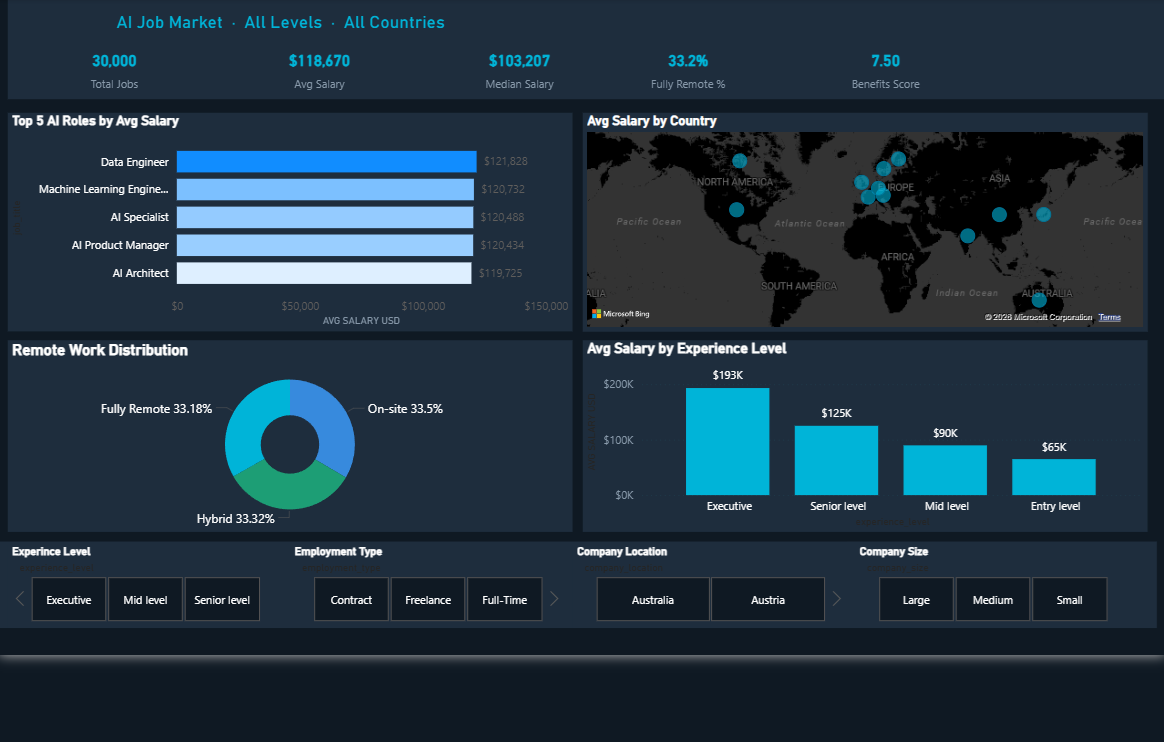

This screenshot's page, from the dashboard's own definition file:
{"tool":"powerbi","page":{"name":"Page 1","canvas":[1280,720],"ordinal":0},"visuals":[{"type":"shape","box":[0,595,1271,95],"z":0},{"type":"shape","box":[9.6,0,1271,110],"z":1000},{"type":"card","fields":{"Values":["_Measures.Page Title Dynamic"]},"box":[10,8,600,35],"z":2000},{"type":"card","title":" Total Jobs","fields":{"Values":["_Measures.Total Jobs"]},"box":[9.6,43.9,234.6,65.9],"z":3000},{"type":"card","fields":{"Values":["_Measures.AVG SALARY USD"]},"box":[234.6,43.9,234.6,65.9],"z":4000},{"type":"card","fields":{"Values":["_Measures.Median Salary"]},"box":[454.2,43.9,234.6,65.9],"z":5000},{"type":"card","fields":{"Values":["_Measures.%Fully Remote"]},"box":[639.5,43.9,234.6,65.9],"z":6000},{"type":"card","fields":{"Values":["_Measures.AVG Benefits score"]},"box":[856.3,43.9,234.6,65.9],"z":7000},{"type":"clusteredBarChart","title":"Top 5 AI Roles by Avg Salary","fields":{"Y":["_Measures.AVG SALARY USD"],"Category":["Fact_Jobs.job_title"]},"box":[10,125,620,240],"z":8000},{"type":"donutChart","title":"Remote Work Distribution","fields":{"Category":["Fact_Jobs.Remote_Category"],"Y":["_Measures.Total Jobs"]},"box":[10,375,620,210],"z":9000},{"type":"clusteredColumnChart","title":"Avg Salary by Experience Level","fields":{"Y":["_Measures.AVG SALARY USD"],"Category":["Fact_Jobs.experience_level"]},"box":[641,375,620,210],"z":10000},{"type":"map","title":"Avg Salary by Country","fields":{"Category":["Dim_Company.company_location"],"Size":["_Measures.AVG SALARY USD"]},"box":[641,125,620,240],"z":11000},{"type":"slicer","title":"Experince Level","fields":{"Values":["Fact_Jobs.experience_level"]},"box":[10,600,300.5,90.6],"z":12000},{"type":"slicer","title":"Employment Type","fields":{"Values":["Fact_Jobs.employment_type"]},"box":[320,600,300.5,90.6],"z":13000},{"type":"slicer","title":"Company Location","fields":{"Values":["Fact_Jobs.company_location"]},"box":[630,600,300.5,90.6],"z":14000},{"type":"slicer","title":"Company Size","fields":{"Values":["Fact_Jobs.company_size"]},"box":[940,600,300.5,90.6],"z":15000}]}

Visuals, with their boxes on the page's 1280x720 design canvas (x1, y1, x2, y2). These are canvas units, not pixel positions in the 1164x742 screenshot, which may show the page scaled, cropped or inside an application window:
shape: region(0, 595, 1271, 690)
shape: region(10, 0, 1281, 110)
card - _Measures.Page Title Dynamic: region(10, 8, 610, 43)
" Total Jobs" card: region(10, 44, 244, 110)
card - _Measures.AVG SALARY USD: region(235, 44, 469, 110)
card - _Measures.Median Salary: region(454, 44, 689, 110)
card - _Measures.%Fully Remote: region(640, 44, 874, 110)
card - _Measures.AVG Benefits score: region(856, 44, 1091, 110)
"Top 5 AI Roles by Avg Salary" clusteredBarChart: region(10, 125, 630, 365)
"Remote Work Distribution" donutChart: region(10, 375, 630, 585)
"Avg Salary by Experience Level" clusteredColumnChart: region(641, 375, 1261, 585)
"Avg Salary by Country" map: region(641, 125, 1261, 365)
"Experince Level" slicer: region(10, 600, 310, 691)
"Employment Type" slicer: region(320, 600, 620, 691)
"Company Location" slicer: region(630, 600, 930, 691)
"Company Size" slicer: region(940, 600, 1240, 691)
